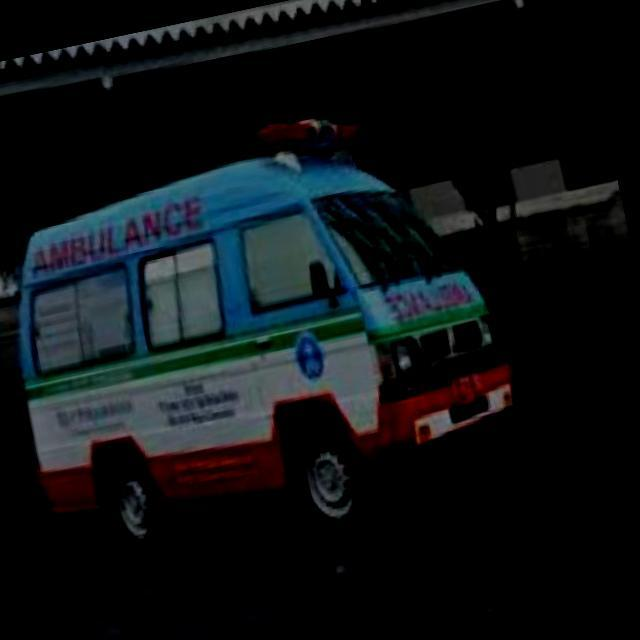emergency-vehicle: (0, 107, 539, 599)
